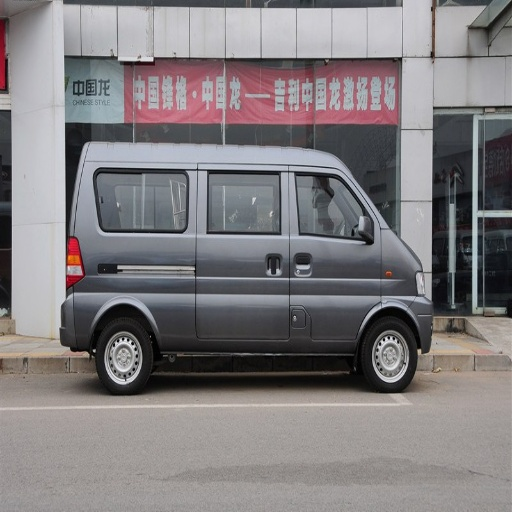back_right_door: (95, 166, 290, 336)
trunk: (69, 242, 232, 351)
